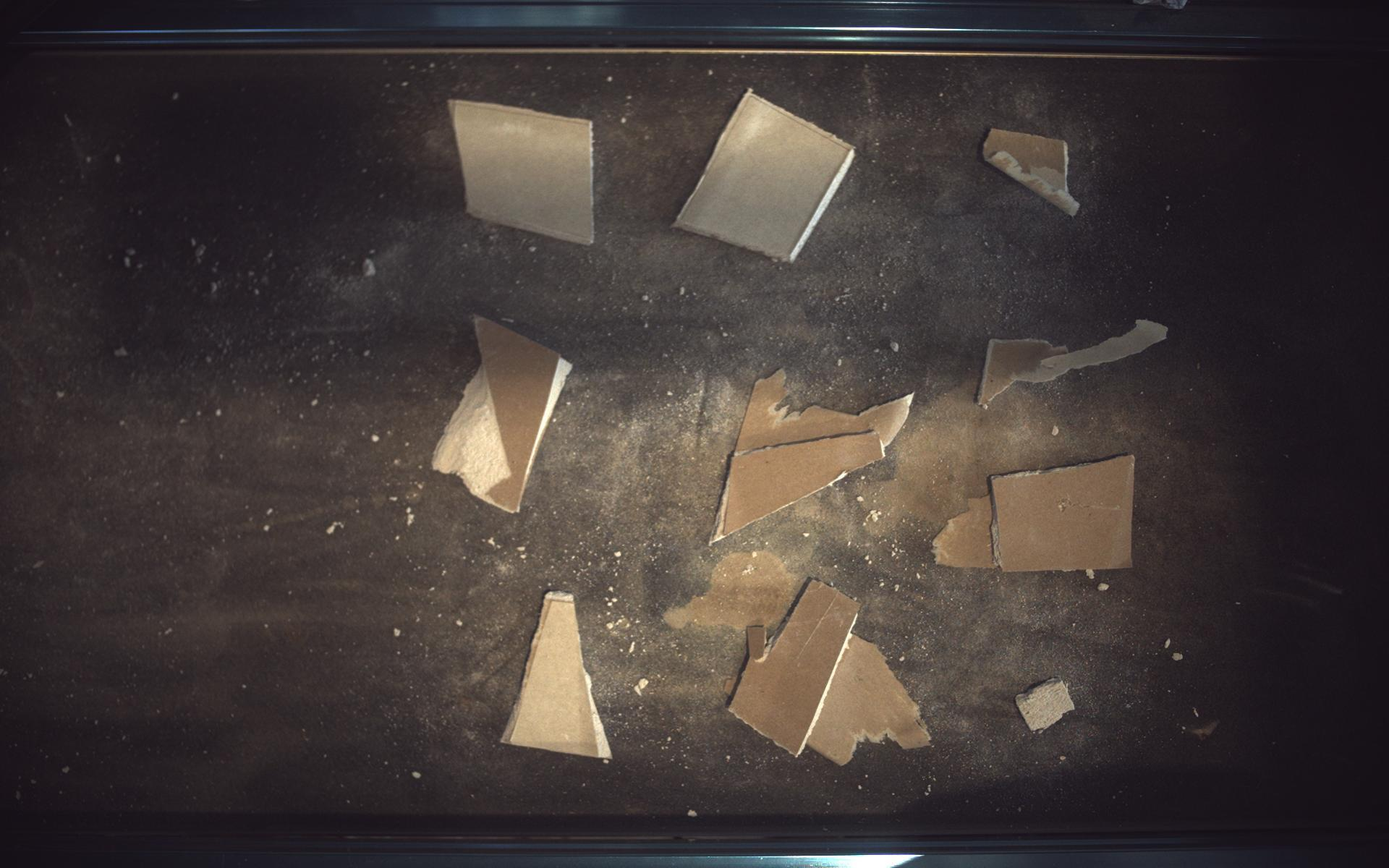gypsum_board: (730, 581, 933, 766), (712, 370, 915, 543), (674, 88, 857, 261), (432, 316, 572, 513), (935, 456, 1137, 572), (449, 99, 594, 244), (501, 592, 612, 762), (980, 320, 1170, 409), (985, 128, 1082, 216), (1018, 681, 1077, 733)
